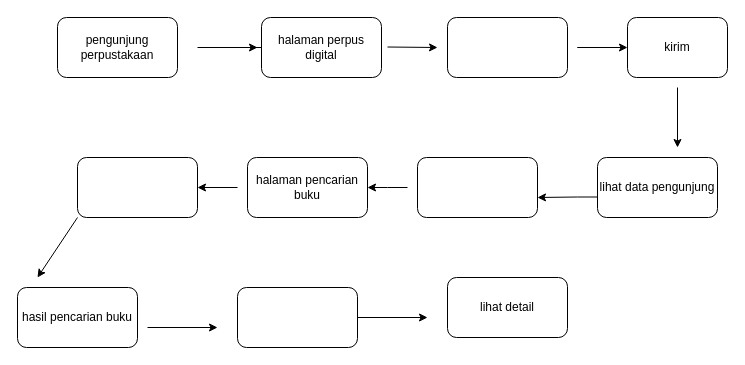
Image size: 745x365. Some labels were removed from this diagram. Here are the shapes that lost their labels. From the top down, the centre of each, then its label:
At (507,47): "isi data pengunjung".
At (137,187): "cari kata kunci judul buku".
At (477,187): "next".
At (297,317): "hasil pencarian".
